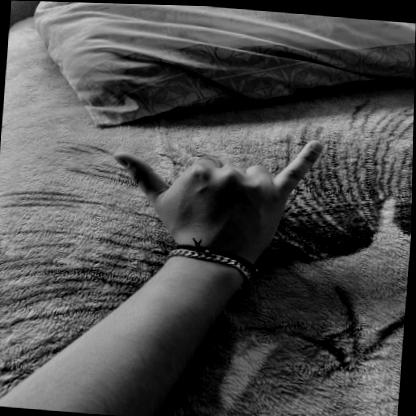Y: (99, 115, 327, 254)
